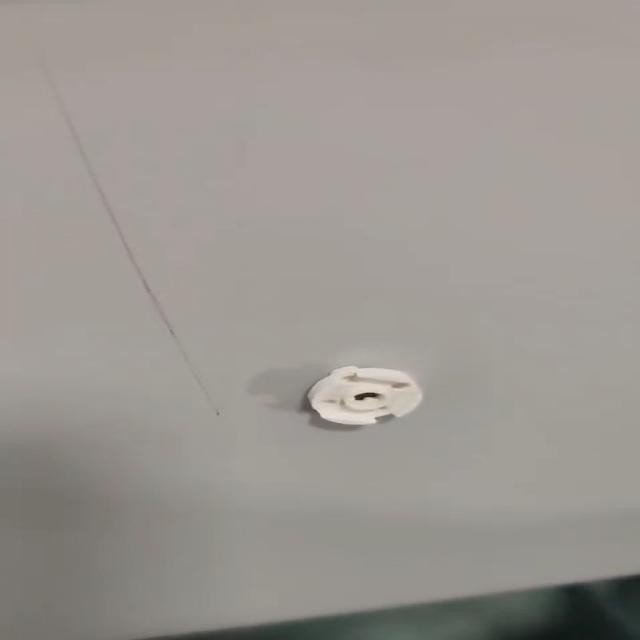S2x2x0: (304, 364, 423, 426)
